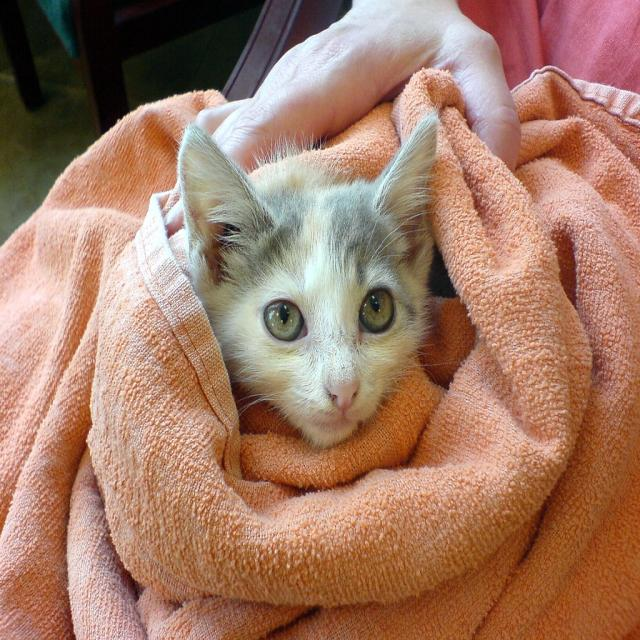cat: (178, 110, 449, 453)
